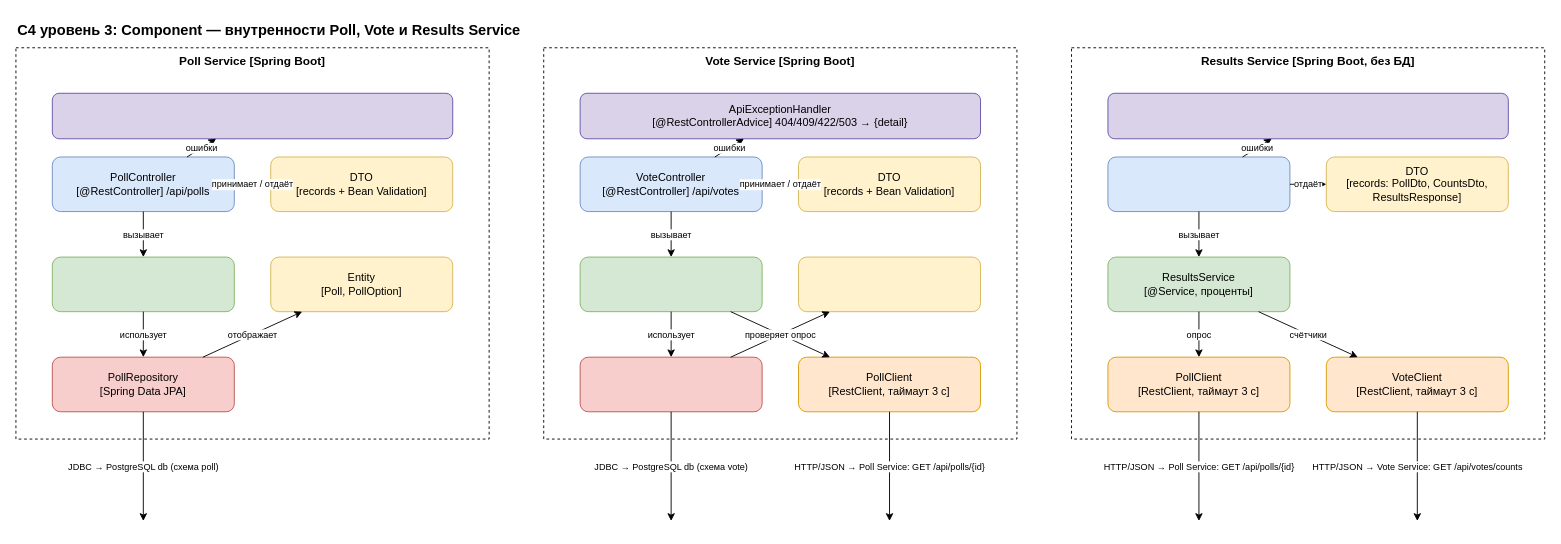
Image size: 1561x544. Some labels were removed from this diagram. Here are the shapes that lost their labels. From the top down, the centre of each, then its label:
[252,115]: ApiExceptionHandler [@RestControllerAdvice] ошибки → {detail}
[1307,115]: ApiExceptionHandler [@RestControllerAdvice] 404/503 → {detail}
[1198,184]: ResultsController [@RestController] /api/results
[142,284]: PollService [@Service, @Transactional]
[670,284]: VoteService [@Service, saveAndFlush → 409]
[889,284]: Entity [Vote, UNIQUE poll_id+voter_id]
[670,384]: VoteRepository [Spring Data JPA]
